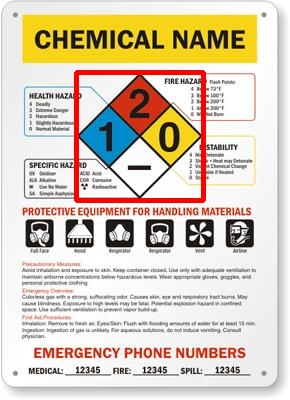nfpa: (76, 72, 203, 200)
